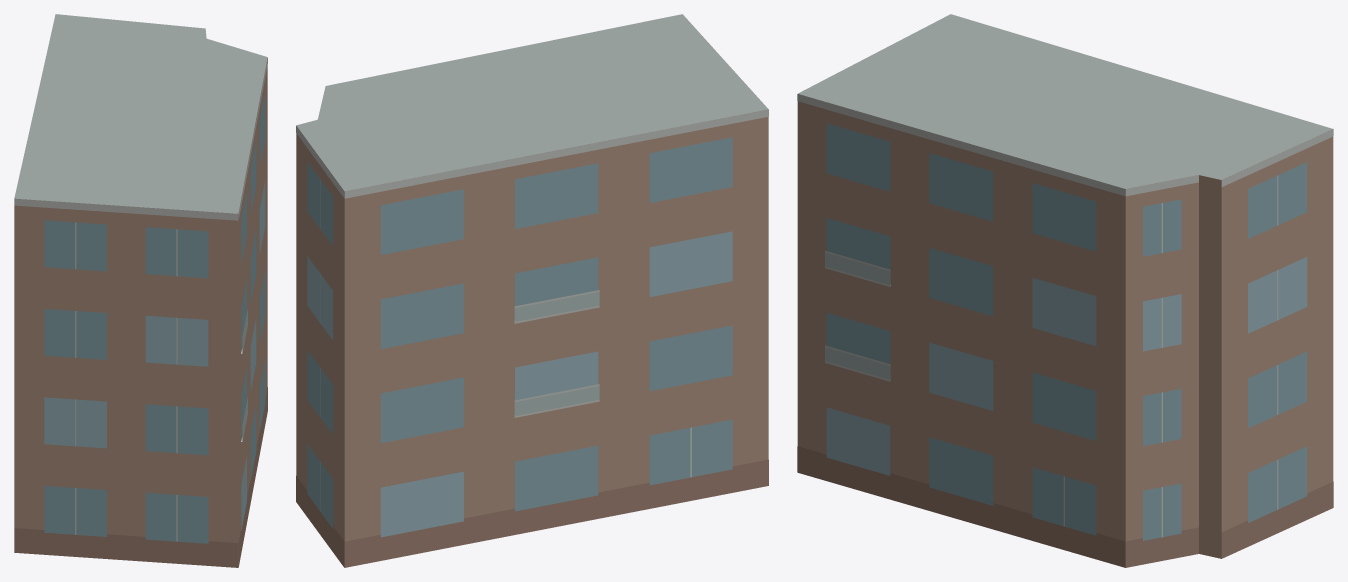
Rendered from survey-upis-32692247.glb.
3 renders of one model, left to right at view 1: azimuth 30°, elevation 25°; view 2: azimuth 150°, elevation 25°; view 3: azimuth 270°, elevation 25°, orthographic. The views are drawn at different scales.
Parts seen in each view (by area): view 1: survey-upis-32692247.tmp; view 2: survey-upis-32692247.tmp; view 3: survey-upis-32692247.tmp.
Boxes of the visible parts, x1,y1,x2,y2 form: survey-upis-32692247.tmp: (14, 14, 267, 567); survey-upis-32692247.tmp: (296, 14, 768, 567); survey-upis-32692247.tmp: (797, 14, 1333, 567).
Size of the model in its own units: 12.39 by 12.5 by 16.04.
